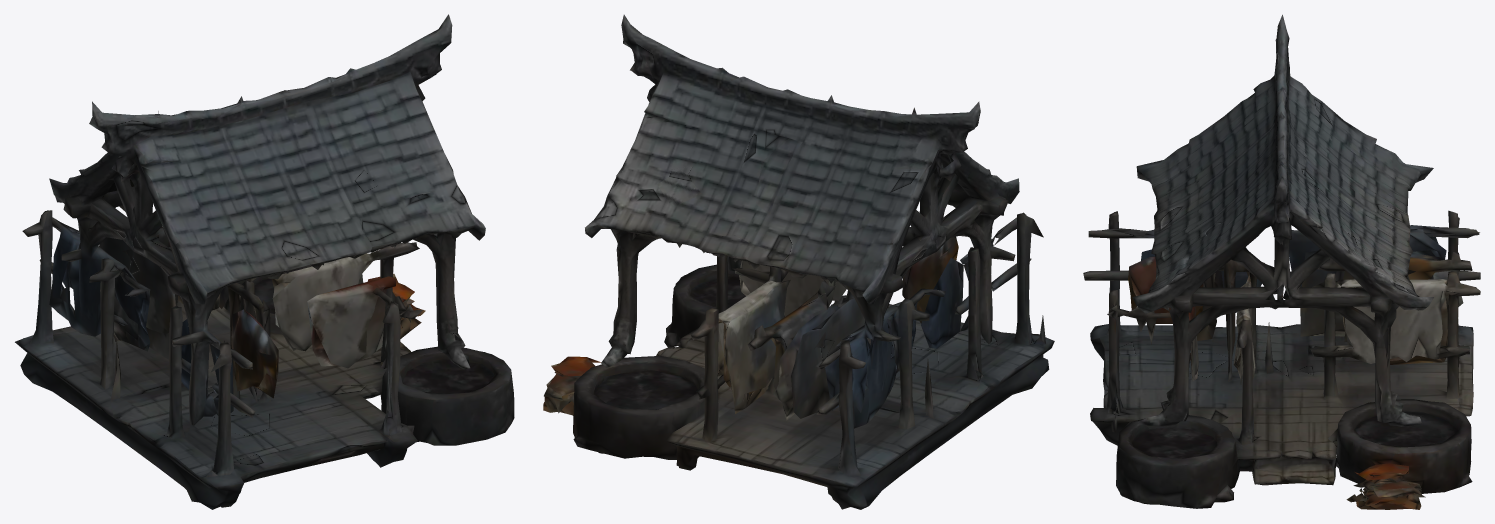
The model's file is tannery.glb.
3 views of the same model, side by side, from view 1: azimuth 30°, elevation 25°; view 2: azimuth 150°, elevation 25°; view 3: azimuth 270°, elevation 25° (orthographic). The views are drawn at different scales.
Parts seen in each view (by area): view 1: geometry_0; view 2: geometry_0; view 3: geometry_0.
Boxes of the visible parts, x1,y1,x2,y2 form: geometry_0: (15, 14, 514, 509); geometry_0: (543, 14, 1054, 509); geometry_0: (1083, 14, 1480, 509).
Size of the model in its own units: 0.9447 by 0.8436 by 0.9068.
1 material, 1 textured.
